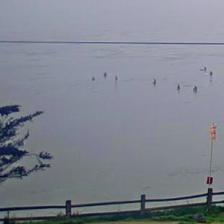surfer: (193, 86, 198, 92), (153, 79, 157, 86), (177, 84, 181, 90), (103, 72, 107, 78), (210, 71, 214, 76), (114, 76, 118, 81), (92, 76, 95, 82), (204, 65, 207, 70), (222, 78, 223, 87)
